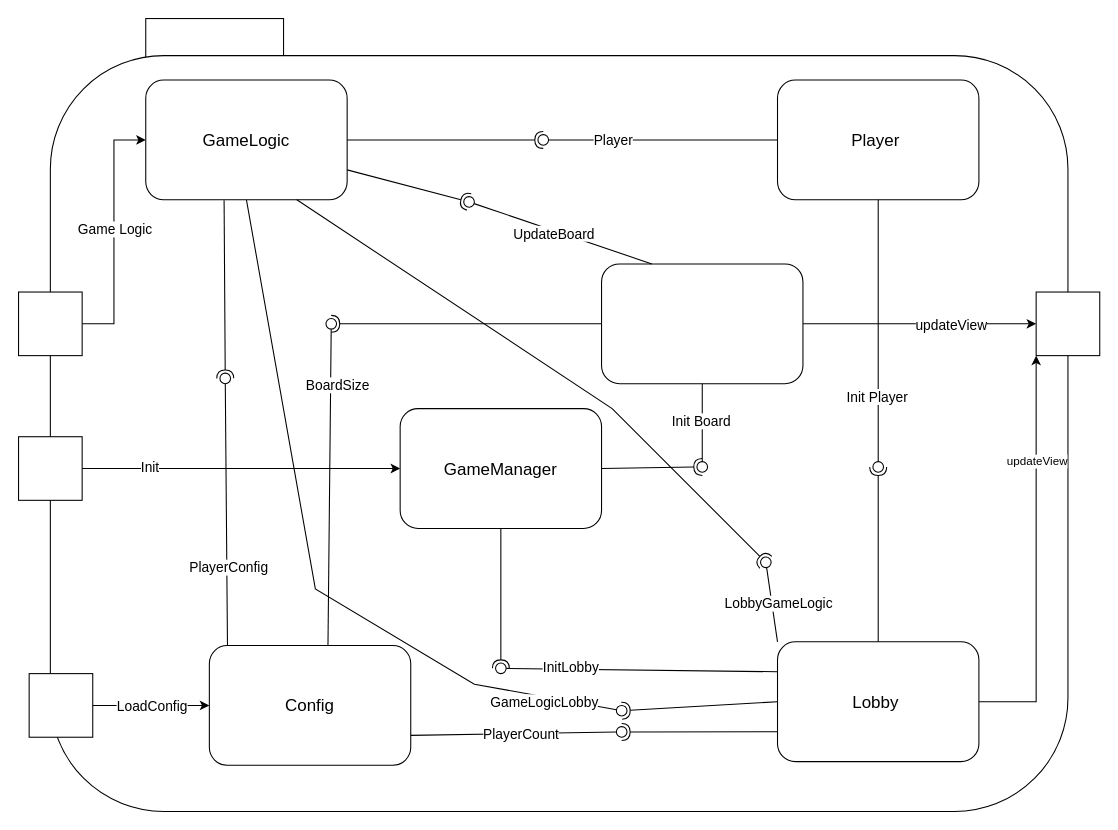
This 1118x830 diagram has some shape labels left out. Here are the shapes that lost their labels. From the top down, the box of each, then its label:
(145, 17, 284, 61): Model
(600, 263, 803, 384): Board
